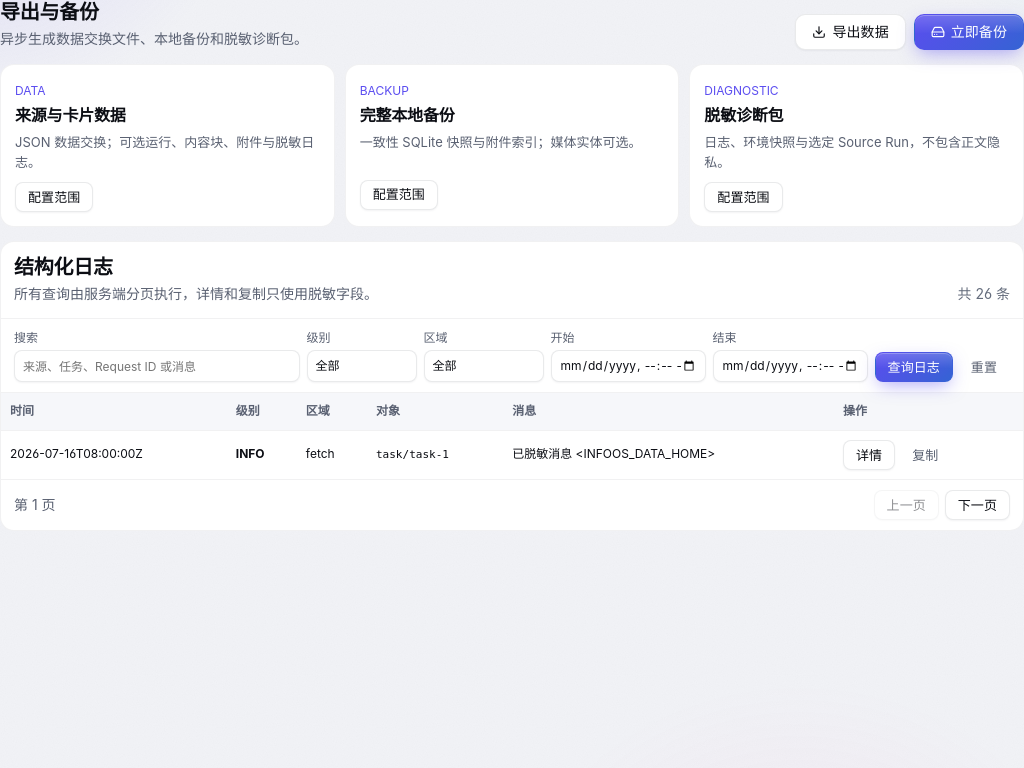
Test: ExportLogsModule › debounces real estimate by 300ms and reuses the same data preset from both entries
The image size is (1024, 768).
expect the text "已脱敏消息 <INFOOS_DATA_HOME>" is shown: met, box [503,430,834,479]
Click the button "导出数据": click(851, 32) [795,14,906,50]
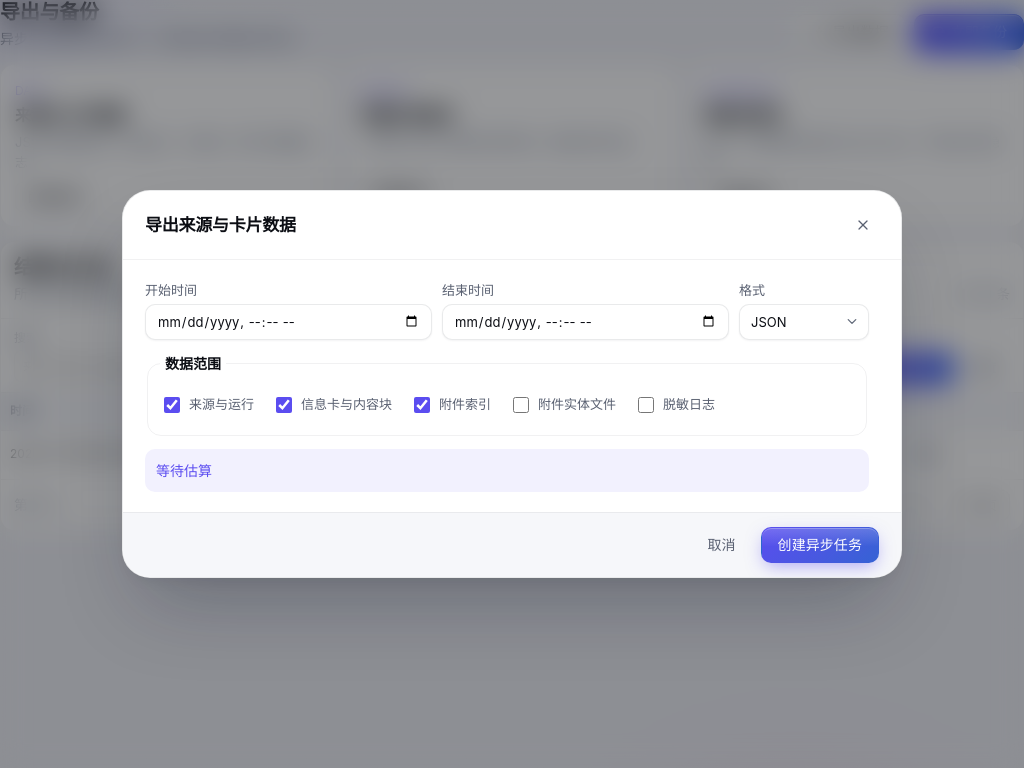
Click the checkbox named "包含附件实体文件": click(521, 405) [513,397,529,413]
Wait 300 ms
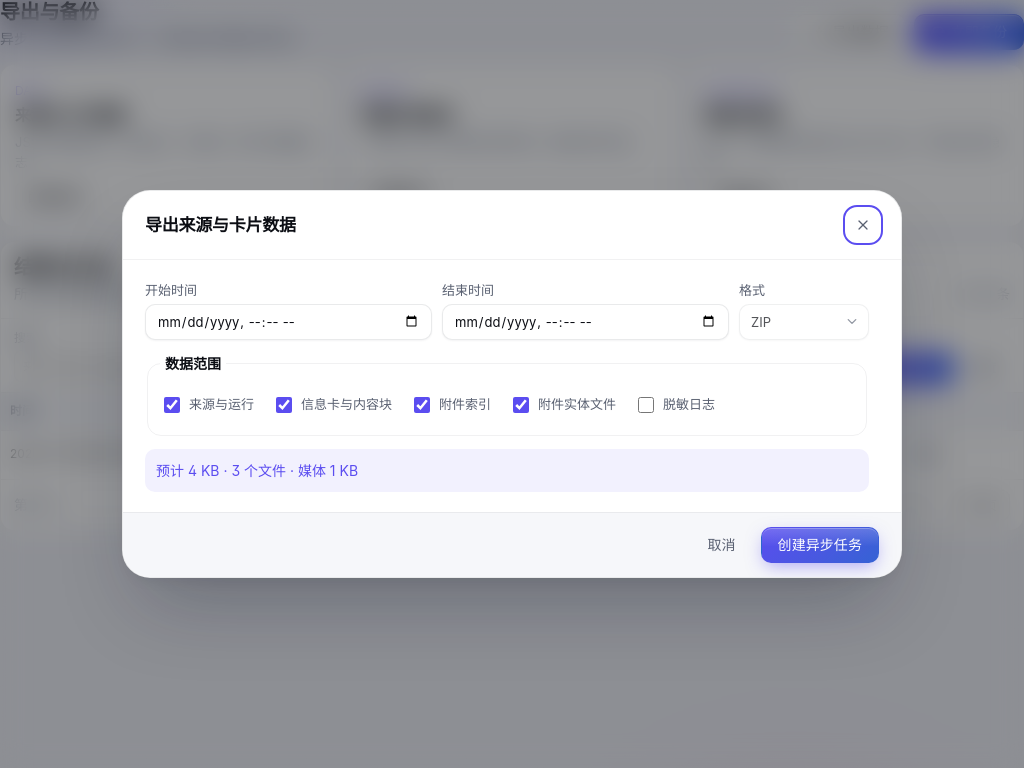
expect the text "预计 4 KB · 3 个文件 · 媒体 1 KB" is shown: met, box [145,449,869,492]
